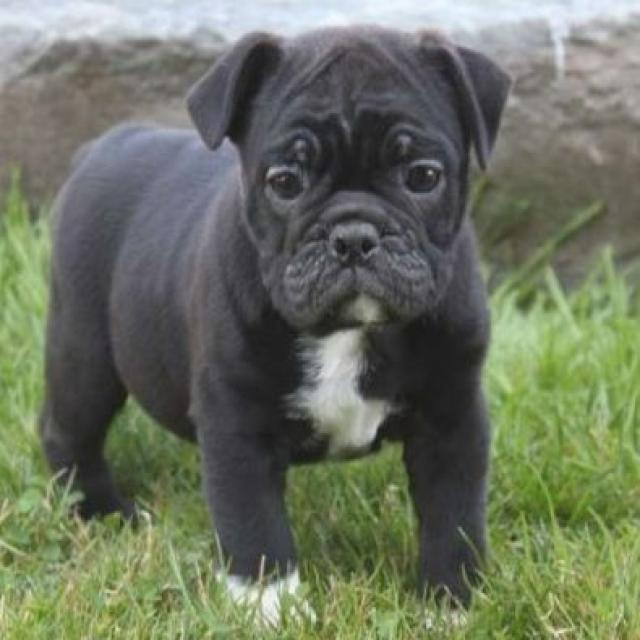dog: (133, 0, 516, 393)
